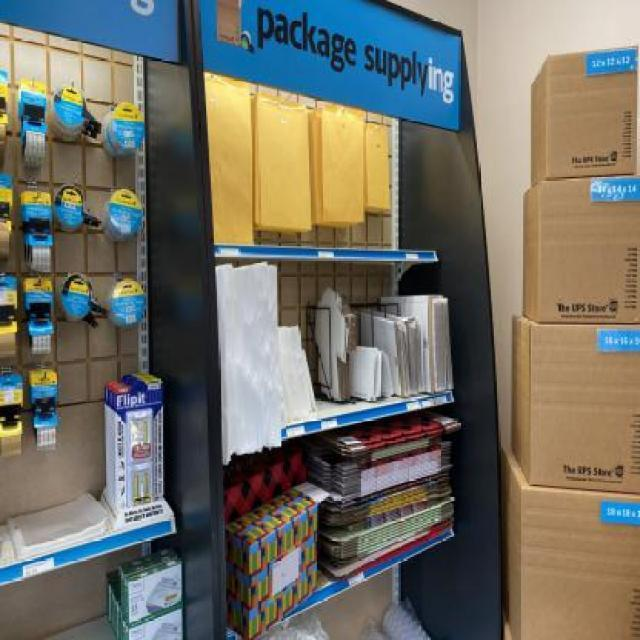box: (502, 442, 640, 640), (514, 312, 640, 486), (519, 180, 640, 326), (530, 46, 640, 178)
